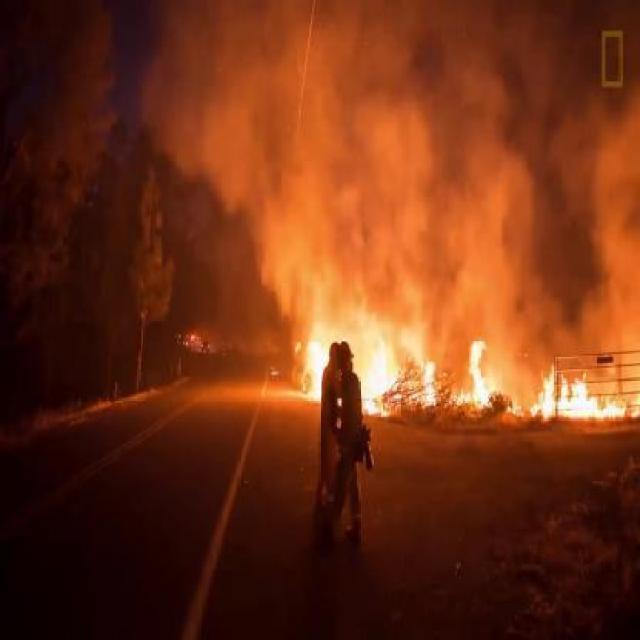Fire: (353, 337, 438, 420), (528, 364, 627, 422), (468, 334, 492, 412), (298, 333, 324, 401), (446, 390, 474, 408)
